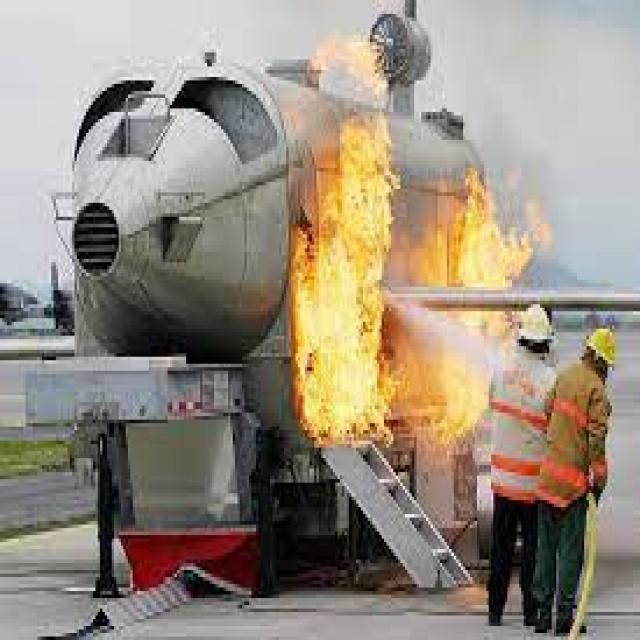fire: (289, 112, 398, 462), (405, 157, 558, 294), (396, 353, 488, 455), (302, 28, 388, 105)
